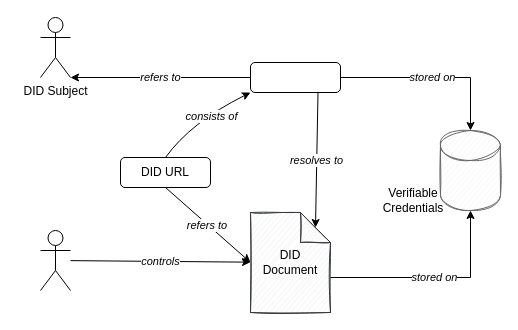
This 518x330 diagram has some shape labels left out. Each missing label, with the centre of its shape:
"DID" belongs at (x=295, y=77).
"DID Controller" belongs at (x=55, y=260).
